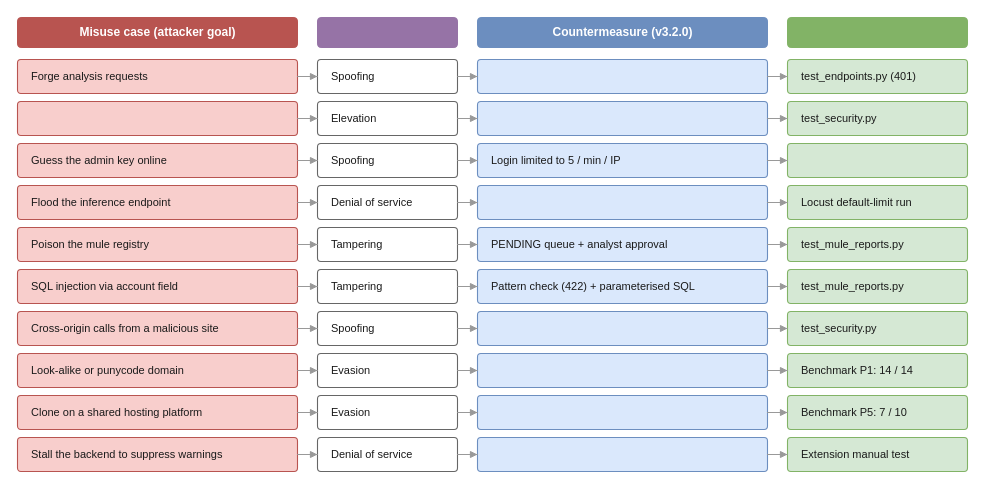
Some shapes in this 986 by 490 pixel diagram are drawn without their labels. The centre of each missing label's shape, as x and y in pixels:
"60 req / min / IP; thread offloading" belongs at (x=622, y=202).
"8 s / 12 s abort → offline fallback" belongs at (x=622, y=454).
"Admin key or HttpOnly session (64 ops)" belongs at (x=622, y=118).
"Bearer API key, constant-time compare" belongs at (x=622, y=76).
"Explicit CORS allow-list, no credentials" belongs at (x=622, y=328).
"R3 edit distance / homoglyphs; heuristics" belongs at (x=622, y=370).
"Read / delete SOC data, download DB" belongs at (x=157, y=118).
"Shared-hosting suffixes not whitelisted" belongs at (x=622, y=412).
"STRIDE / class" belongs at (x=387, y=32).
"test_security.py (429)" belongs at (x=877, y=160).
"Verified by" belongs at (x=877, y=32).
